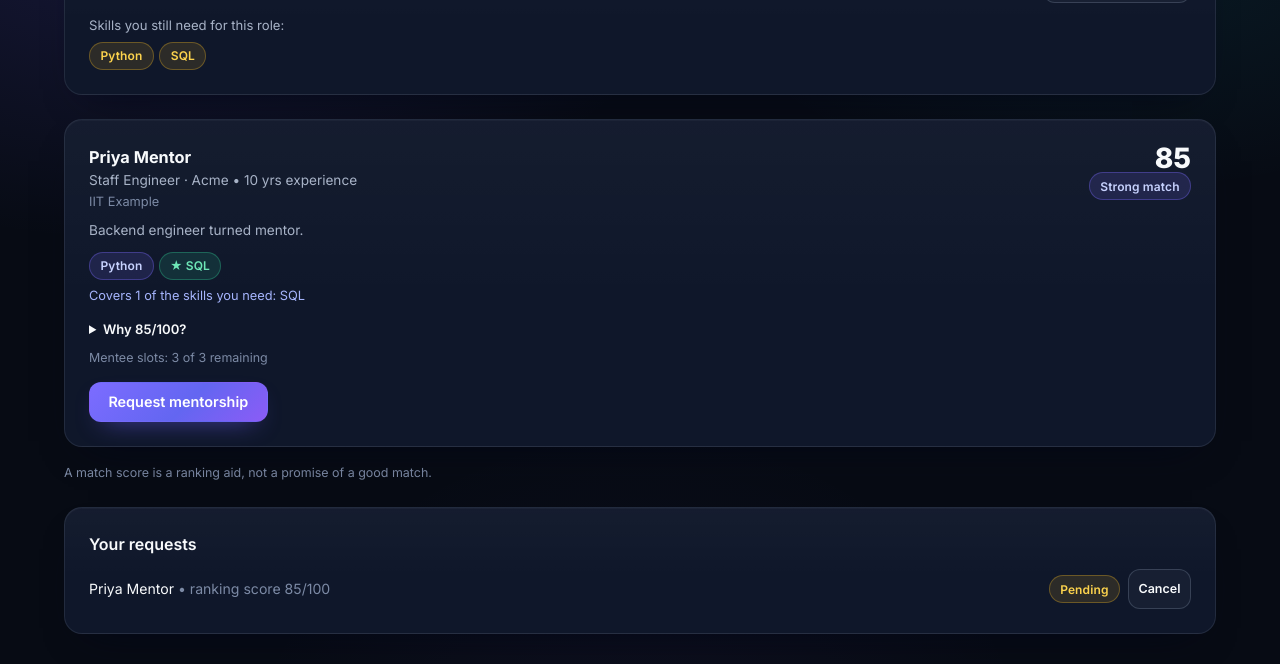
Test case: MentorsPage (student) › lists the requests the student sent and can cancel a pending one
This screenshot has width=1280, height=664.
(page scrolled)
Expected: the text "Priya Mentor • ranking score 85/100" is shown, [89,578,330,601]
Expected: the text "pending" is shown, [1049,575,1120,603]
Click the button "Cancel" at point(1159, 589), box [1128,569,1191,609]
(page scrolled)
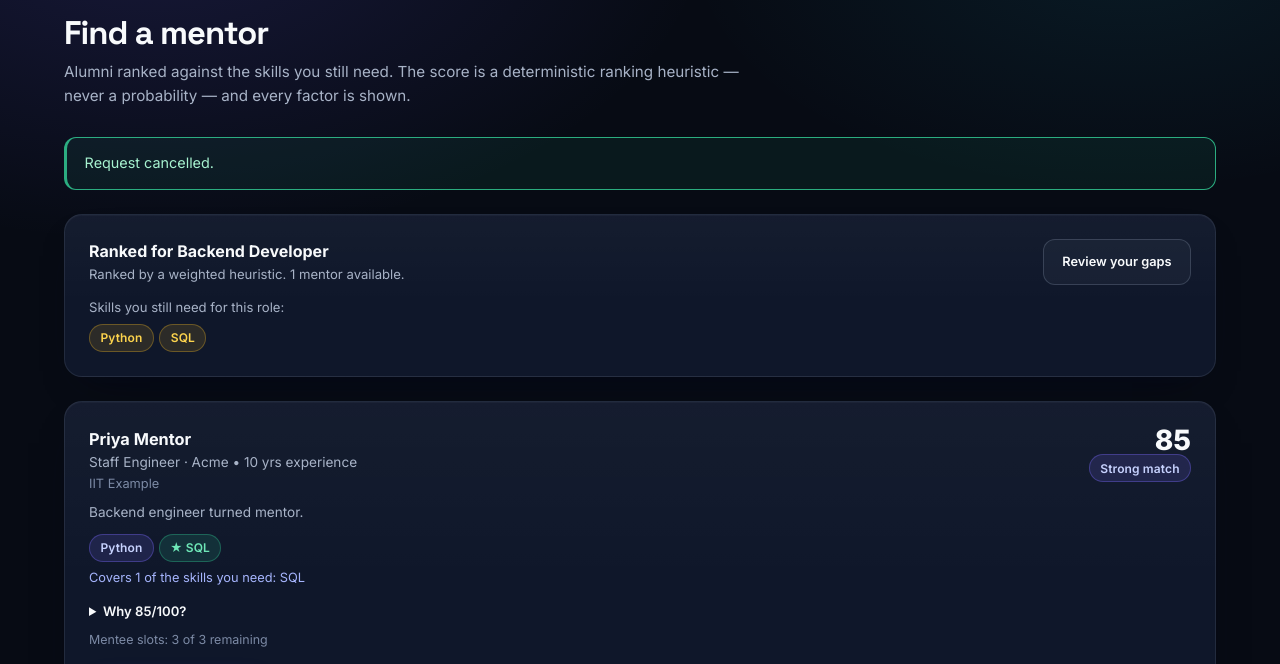
Expected: the text "Request cancelled." is shown, [64,137,1216,190]
